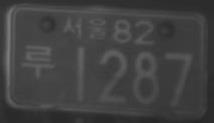1: (67, 45, 94, 103)
2: (95, 47, 129, 105), (133, 17, 156, 45)
7: (162, 49, 195, 108)
8: (130, 49, 162, 106), (111, 17, 133, 44)
루: (20, 42, 55, 79)
서울_O: (60, 15, 108, 42)
